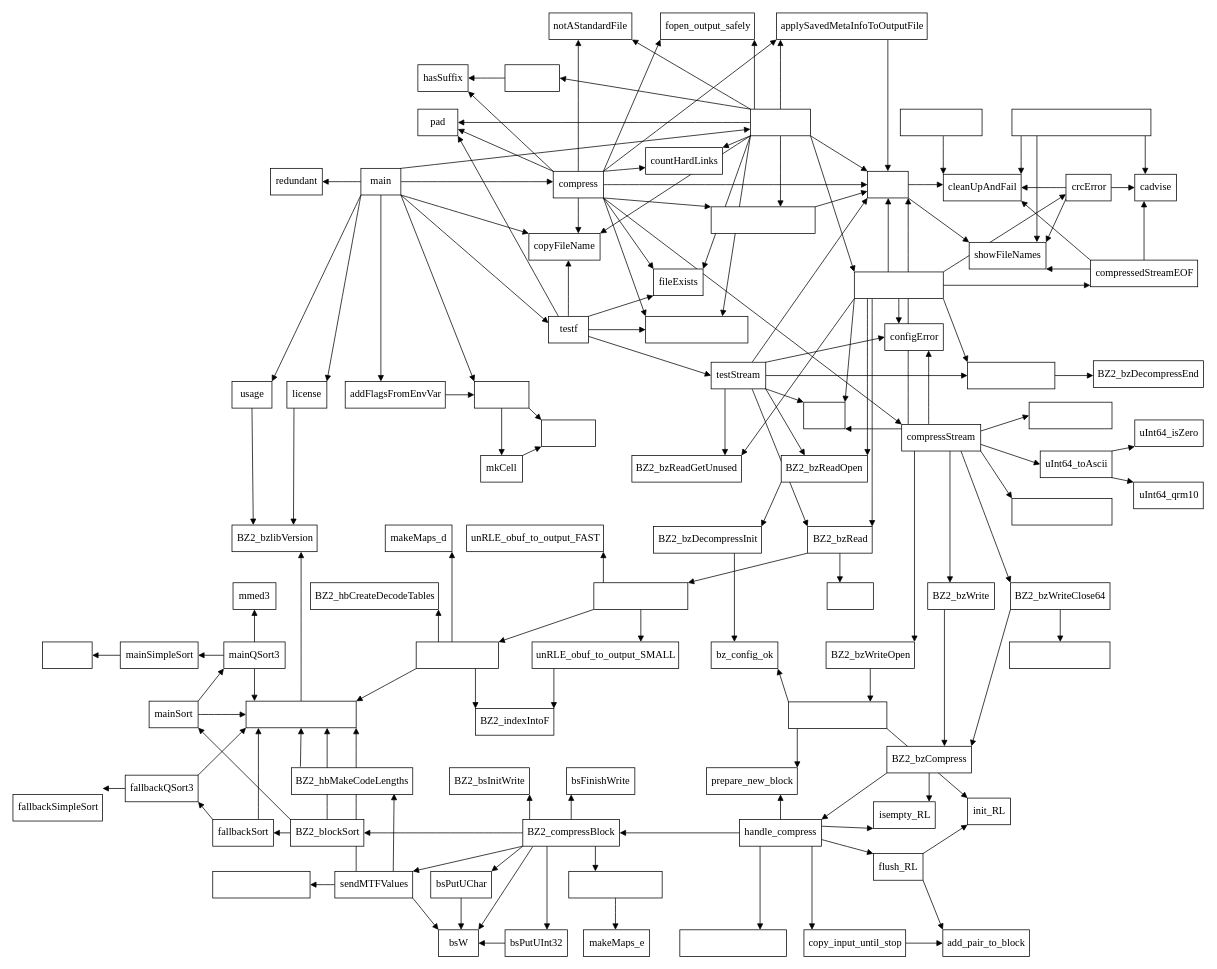
Image size: 1217x969. Some labels were removed from this diagram. The shapes that lost their labels are listed below. From the top down, each one's centre as x and y in pixels, then its label:
At [532,77]: "mapSuffix".
At [780,122]: "uncompress".
At [941,122]: "mySignalCatcher".
At [1081,122]: "mySIGSEGVorSIGBUScatcher".
At [887,184]: "ioError".
At [762,219]: "saveInputFileMetaInfo".
At [898,285]: "uncompressStream".
At [696,329]: "containsDubiousChars".
At [501,394]: "snocString".
At [1011,375]: "BZ2_bzReadClose".
At [568,433]: "myMalloc".
At [824,415]: "myfeof".
At [1070,415]: "uInt64_to_double".
At [1061,511]: "uInt64_from_UInt32s".
At [640,595]: "BZ2_bzDecompress".
At [849,595]: "myfeof_".
At [67,655]: "mainGtU".
At [456,655]: "BZ2_decompress".
At [1059,655]: "BZ2_bzCompressEnd".
At [300,714]: "BZ2_bz__AssertH__fail".
At [837,715]: "BZ2_bzCompressInit".
At [261,884]: "BZ2_hbAssignCodes".
At [615,884]: "generateMTFValues".
At [733,942]: "copy_output_until_stop".
